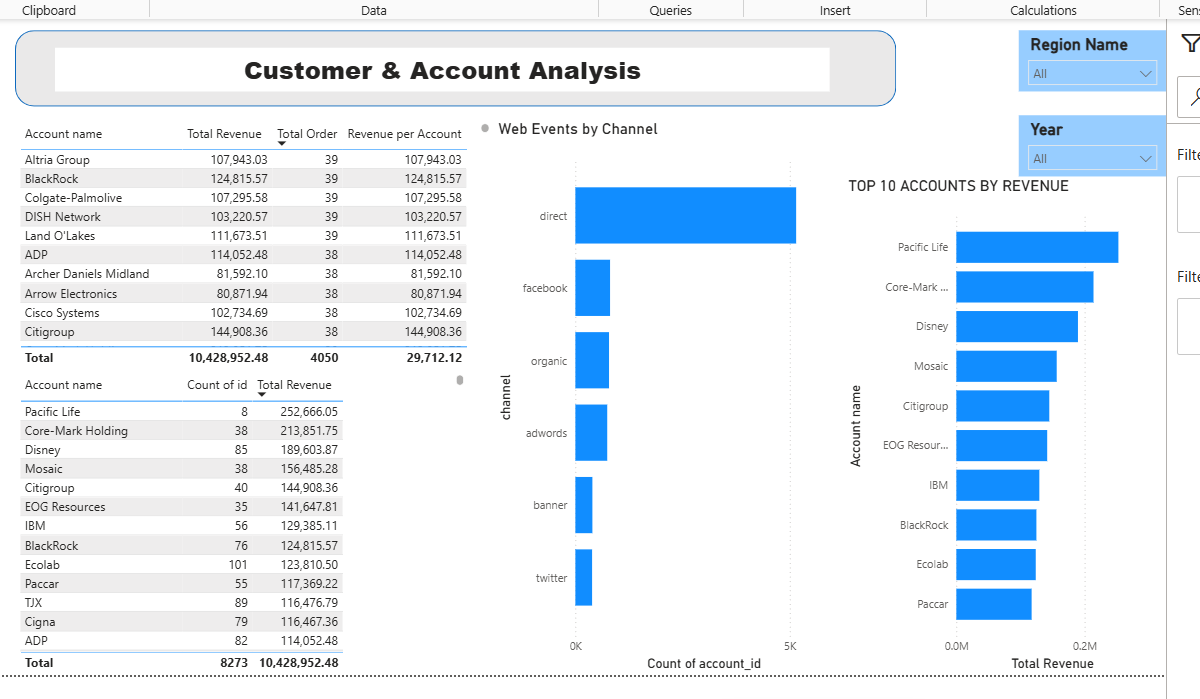

This screenshot's page, from the dashboard's own definition file:
{"tool":"powerbi","page":{"name":"Customer & Account Analysis","canvas":[1280,720],"ordinal":2},"visuals":[{"type":"group","id":"g1","title":"Group 1","box":[17.1,12.2,968.5,83.2],"z":0},{"type":"shape","box":[17.1,12.2,967.4,83.7],"z":1000,"group":"g1"},{"type":"clusteredBarChart","title":"TOP 10 ACCOUNTS BY REVENUE","fields":{"Category":["accounts.Account name"],"Y":["orders.Total Revenue"]},"box":[926.2,172.9,354,547.5],"z":1000},{"type":"textbox","box":[61,31.4,850.8,48],"z":2000,"group":"g1"},{"type":"tableEx","fields":{"Values":["accounts.Account name","orders.Total Revenue","orders.total order","orders.Revenue per Account"]},"box":[16.5,109.8,525.6,275.8],"z":2000},{"type":"clusteredBarChart","title":"Web Events by Channel","fields":{"Category":["web_events.channel"],"Y":["CountNonNull(web_events.account_id)"]},"box":[542,109.8,384.2,610.6],"z":3000},{"type":"tableEx","fields":{"Values":["accounts.Account name","web_events.id","orders.Total Revenue"]},"box":[16.5,385.6,498.1,334.8],"z":4000},{"type":"slicer","fields":{"Values":["region.Region Name"]},"box":[1118.4,12.3,161.9,67.2],"z":5000},{"type":"slicer","fields":{"Values":["DateTable.Year"]},"box":[1118.4,105.7,161.9,67.2],"z":6000}]}

Visuals, with their boxes on the page's 1280x720 design canvas (x1, y1, x2, y2). These are canvas units, not pixel positions in the 1200x699 screenshot, which may show the page scaled, cropped or inside an application window:
"Group 1" group: 17:12:986:95
shape: 17:12:984:96
"TOP 10 ACCOUNTS BY REVENUE" clusteredBarChart: 926:173:1280:720
textbox: 61:31:912:79
tableEx - accounts.Account name x orders.Total Revenue: 16:110:542:386
"Web Events by Channel" clusteredBarChart: 542:110:926:720
tableEx - accounts.Account name x web_events.id: 16:386:515:720
slicer - region.Region Name: 1118:12:1280:80
slicer - DateTable.Year: 1118:106:1280:173
